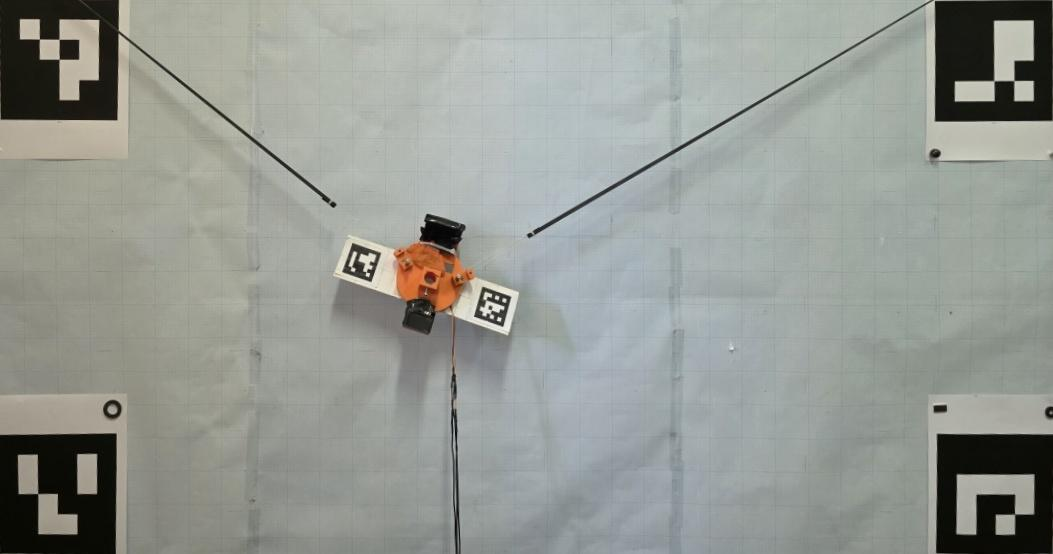robot: (391, 213, 477, 334)
